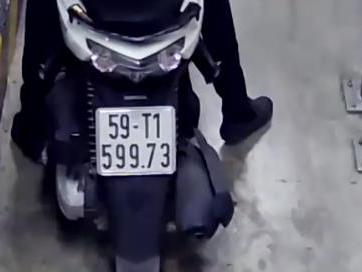num_plate: (94, 106, 177, 178)
